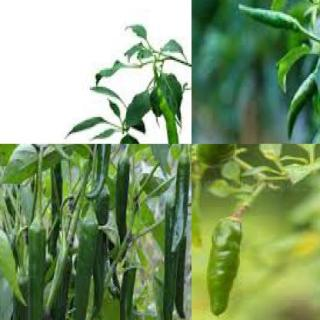green_chilli: (203, 223, 251, 314), (73, 218, 99, 320), (238, 1, 300, 38), (285, 71, 317, 141), (92, 197, 110, 315), (170, 161, 191, 252), (82, 144, 116, 200), (162, 202, 178, 320), (28, 222, 47, 319), (148, 86, 178, 143), (114, 154, 130, 248), (48, 168, 64, 257), (48, 256, 69, 320), (192, 144, 238, 167), (121, 264, 139, 319), (8, 275, 30, 319), (175, 238, 187, 318)
